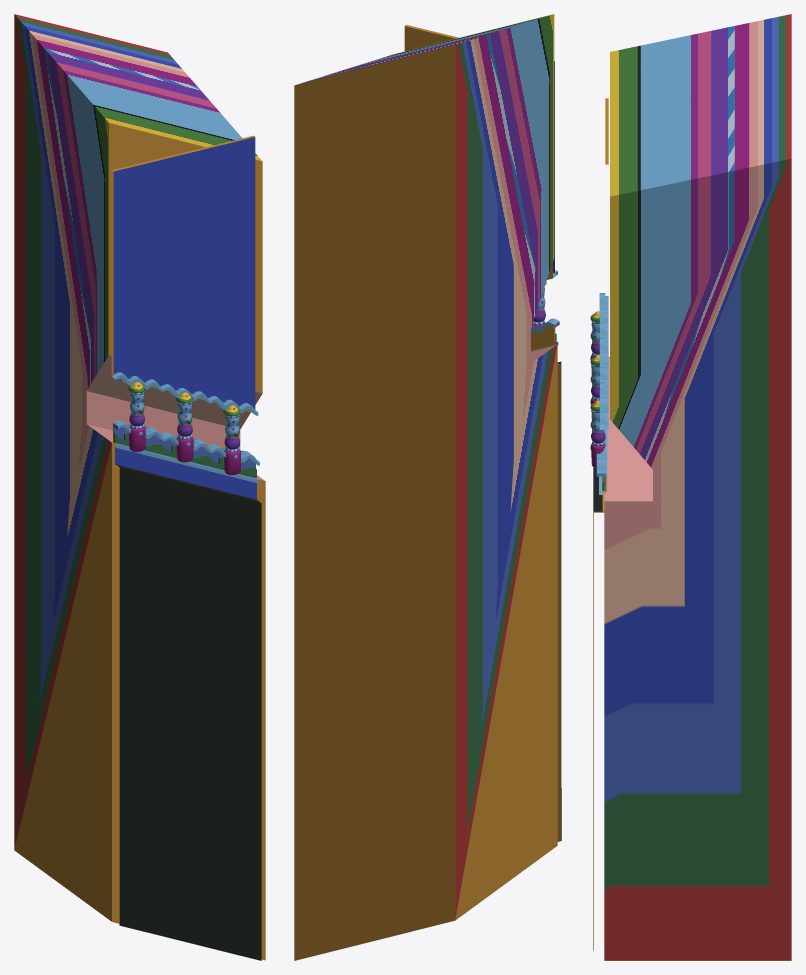
The model's file is stairs_2.fbx.
3 views of the same model, side by side, from view 1: azimuth 30°, elevation 25°; view 2: azimuth 150°, elevation 25°; view 3: azimuth 270°, elevation 25° (orthographic). The views are drawn at different scales.
Parts seen in each view (by area): view 1: BACK, FRONT, PILLARS; view 2: BACK, FRONT; view 3: BACK, FRONT, PILLARS.
Boxes of the visible parts, <box> form: BACK: <box>14,14,265,960</box>; FRONT: <box>111,135,261,960</box>; PILLARS: <box>128,382,240,475</box>; BACK: <box>294,14,557,960</box>; FRONT: <box>404,25,561,841</box>; BACK: <box>604,14,791,960</box>; FRONT: <box>593,98,608,950</box>; PILLARS: <box>590,311,605,467</box>.
Size of the model in its own units: 148 by 840 by 175.
